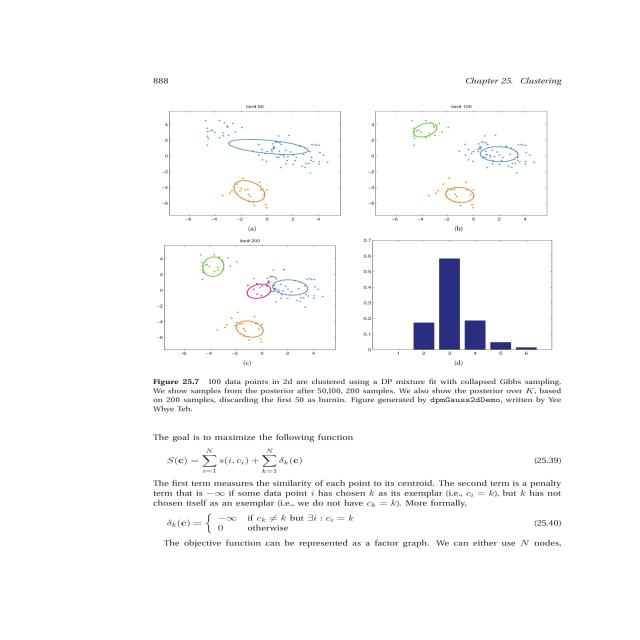diagram: (124, 104, 620, 421)
